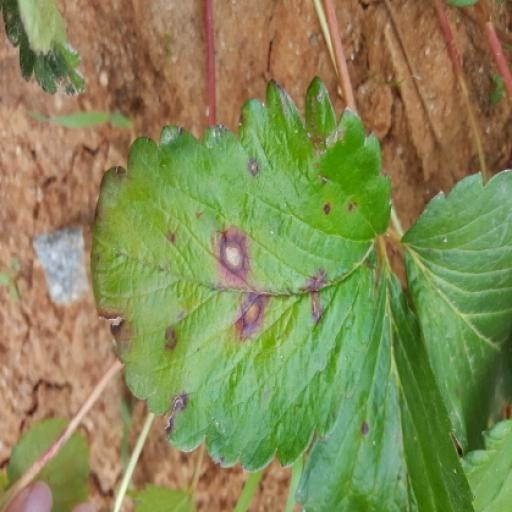Leaf Spot: (119, 39, 424, 439), (37, 0, 218, 256)
